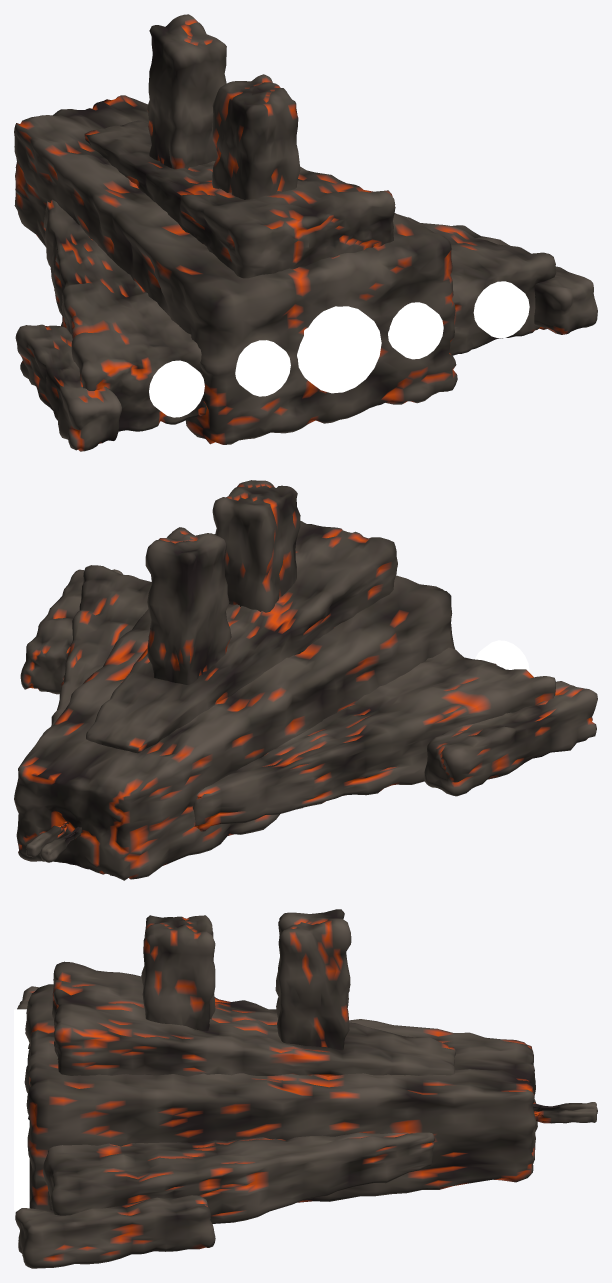
The model's file is thraal_huge.glb.
3 views of the same model, one above another, from view 1: azimuth 30°, elevation 25°; view 2: azimuth 150°, elevation 25°; view 3: azimuth 270°, elevation 25° (orthographic). The views are drawn at different scales.
Visible parts, largest first — view 1: thraal_huge.001; view 2: thraal_huge.001; view 3: thraal_huge.001.
Boxes of the visible parts, x1,y1,x2,y2 form: thraal_huge.001: [14, 14, 597, 451]; thraal_huge.001: [14, 480, 597, 880]; thraal_huge.001: [14, 909, 597, 1268].
Bounding box in the file's own units: 9.82 × 5.12 × 10.
